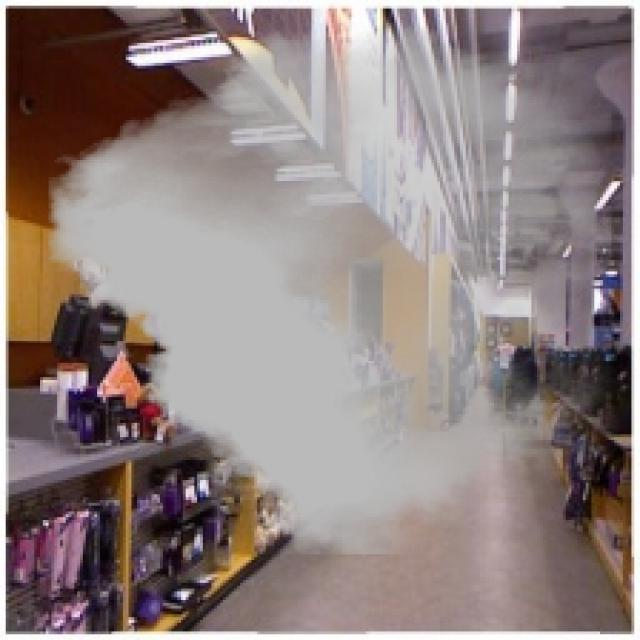Smoke: (49, 22, 612, 554)
